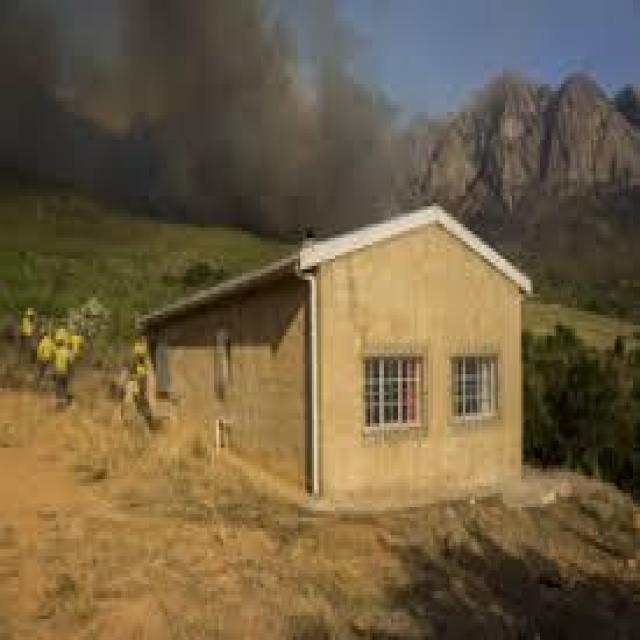Smoke: (0, 0, 409, 234)
